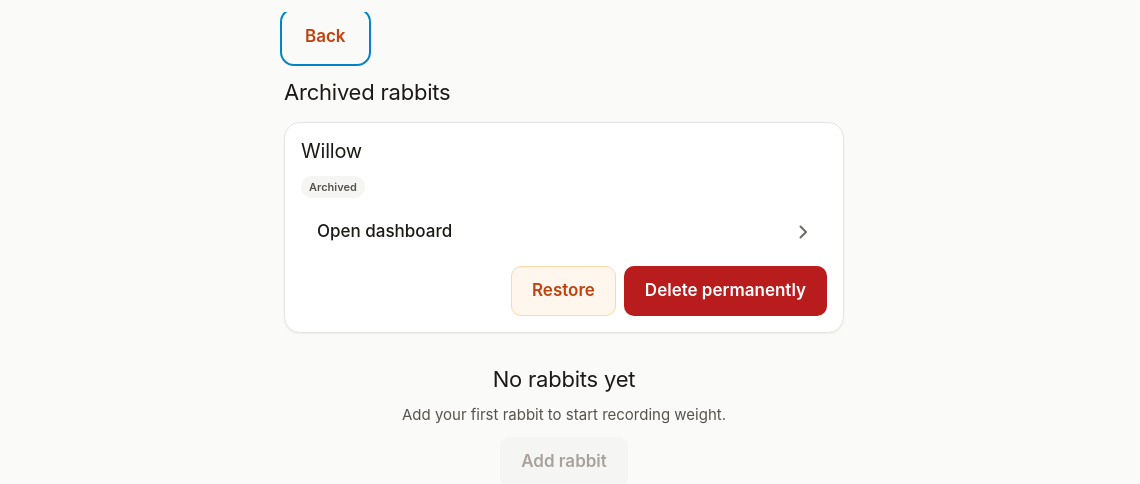
Scenario: restores an archived rabbit to the active list
The image size is (1140, 484).
Expected: the heading "Willow" is shown, 301,139 -> 362,163
What coordinates should you click on to do the following:
click the button "Restore"
I would click on:
 (563, 291)
Its box is 511,266 -> 616,316.
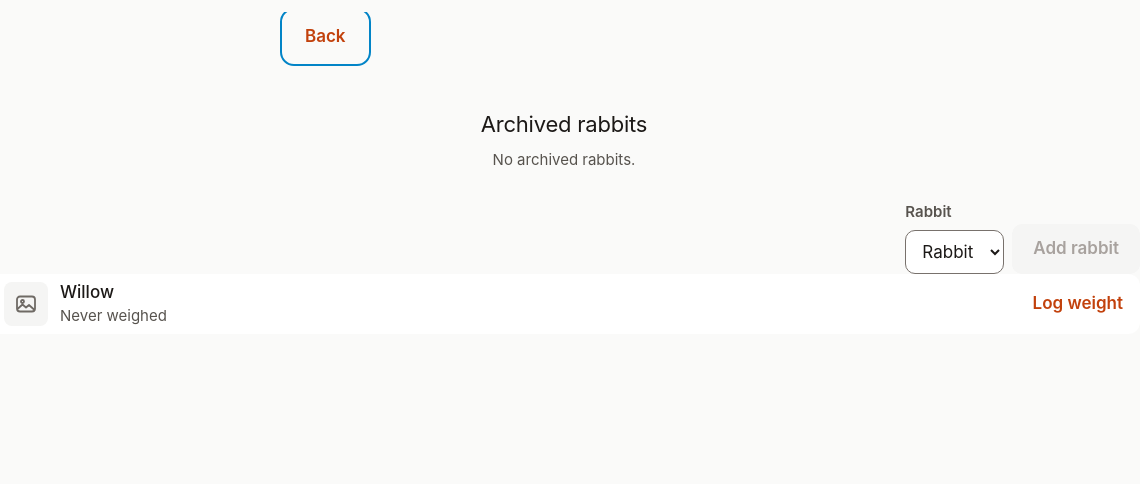
Expected: the heading "Archived rabbits" is shown, 481,110 -> 647,138
Expected: the button "Restore" is gone
